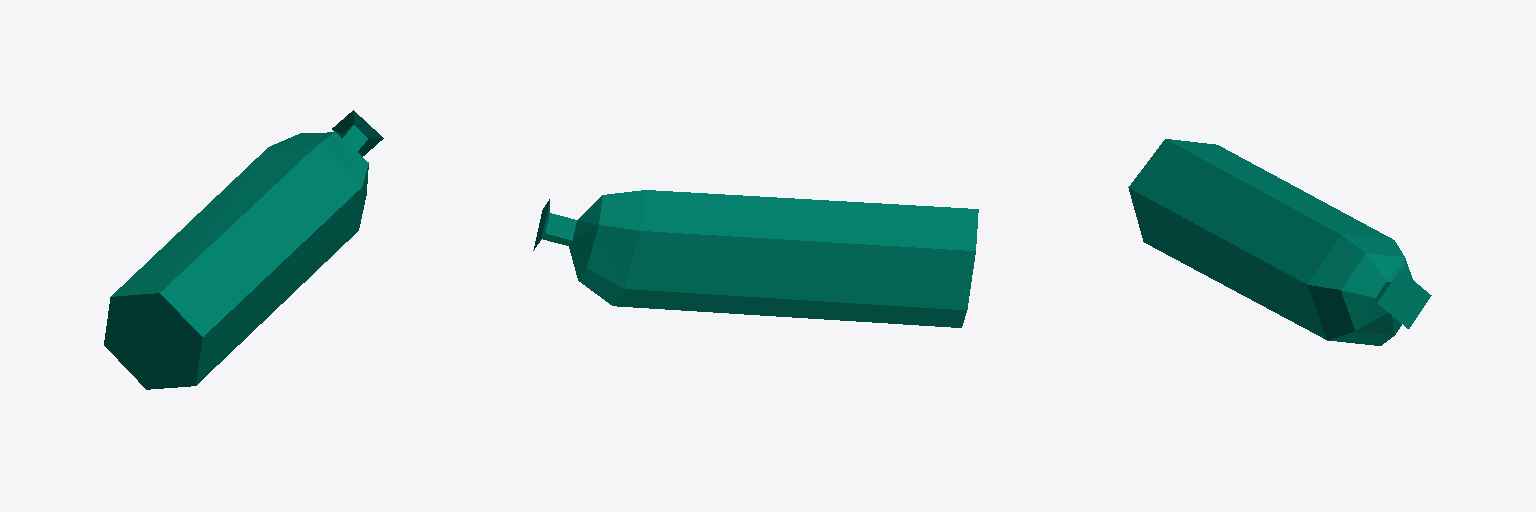
The model's file is fuel.obj.
3 views of the same model, side by side, from view 1: azimuth 30°, elevation 25°; view 2: azimuth 150°, elevation 25°; view 3: azimuth 270°, elevation 25° (orthographic).
Visible parts, largest first — view 1: cylinder1; view 2: cylinder1; view 3: cylinder1.
Boxes of the visible parts, box(x1,y1,x2,y2) form: cylinder1: box(104, 110, 383, 389); cylinder1: box(533, 190, 978, 327); cylinder1: box(1128, 139, 1431, 345).
Size of the model in its own units: 0.141 by 0.0503 by 0.1048.